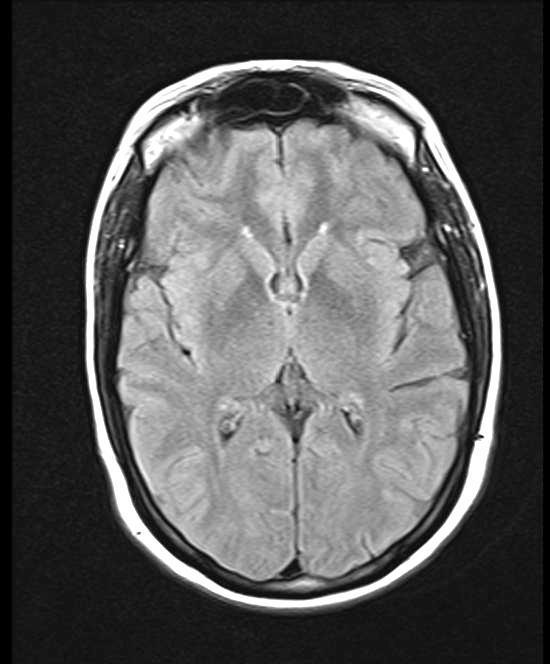Normal_Brain: (8, 1, 550, 664)
